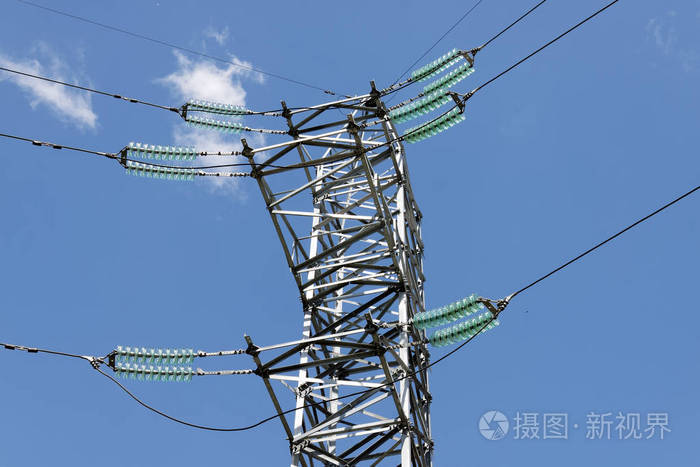insulator: (414, 294, 498, 344), (395, 89, 469, 144), (114, 342, 198, 382), (124, 140, 201, 181), (413, 43, 475, 84), (188, 100, 246, 134)
